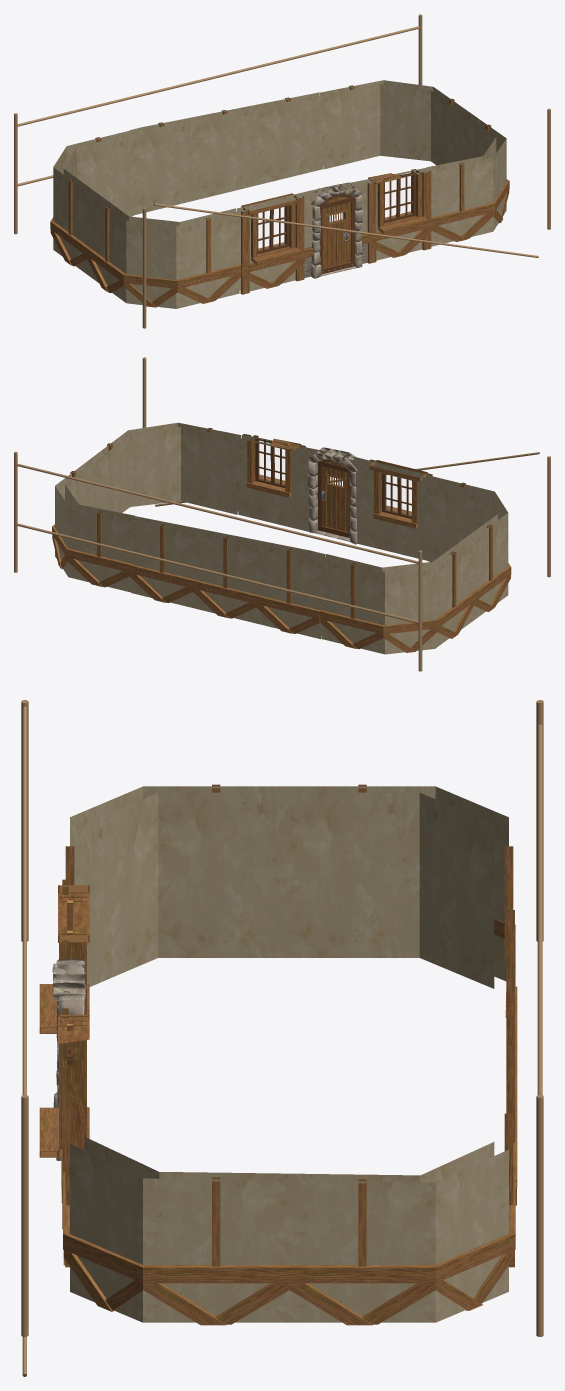
Rendered from Building8Whole_P2.glb.
3 renders of one model, top to bottom at view 1: azimuth 30°, elevation 25°; view 2: azimuth 150°, elevation 25°; view 3: azimuth 270°, elevation 25°, orthographic. The views are drawn at different scales.
Visible parts, largest first — view 1: Building8Whole_P2; view 2: Building8Whole_P2; view 3: Building8Whole_P2.
Boxes of the visible parts, x1,y1,x2,y2 form: Building8Whole_P2: (14,14,550,328); Building8Whole_P2: (14,357,550,671); Building8Whole_P2: (21,700,543,1376).
Bounding box in the file's own units: 12.87 × 4.47 × 7.14.
Materials: 6 (4 with a texture image).
